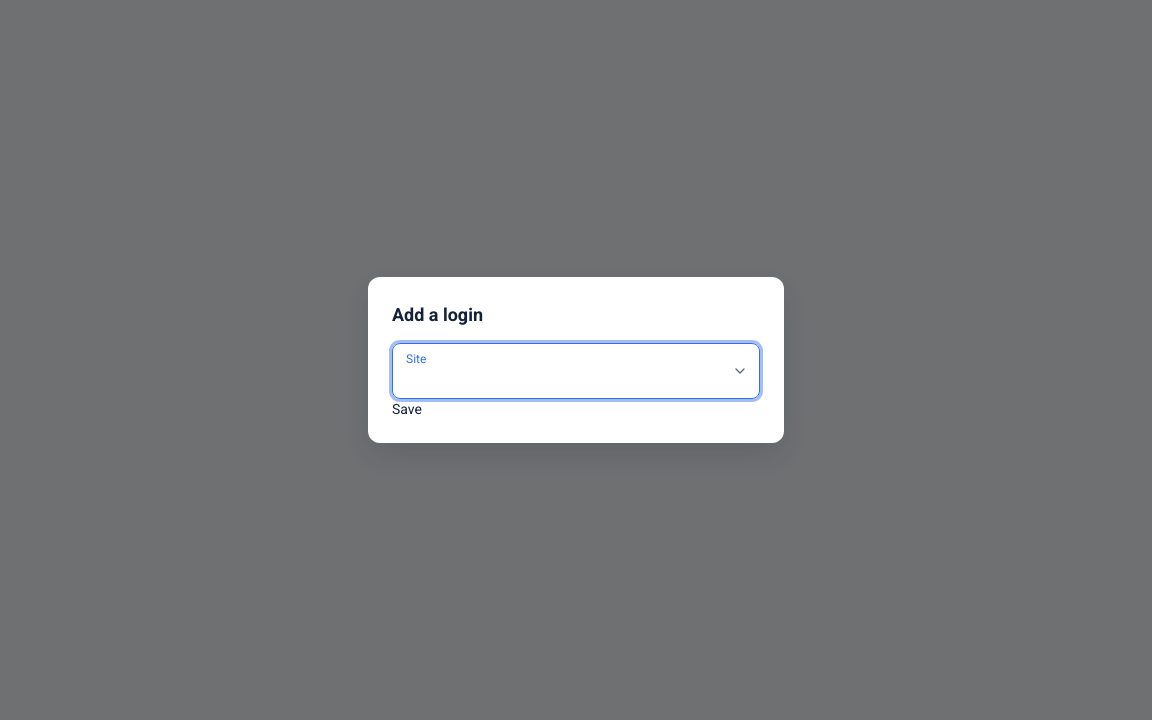
Scenario: ComboboxField › closes its list on Escape and leaves the dialog around it open
In the dropdown labelled "Site": (576, 371) left=392, top=343, right=760, bottom=399, type "tw"
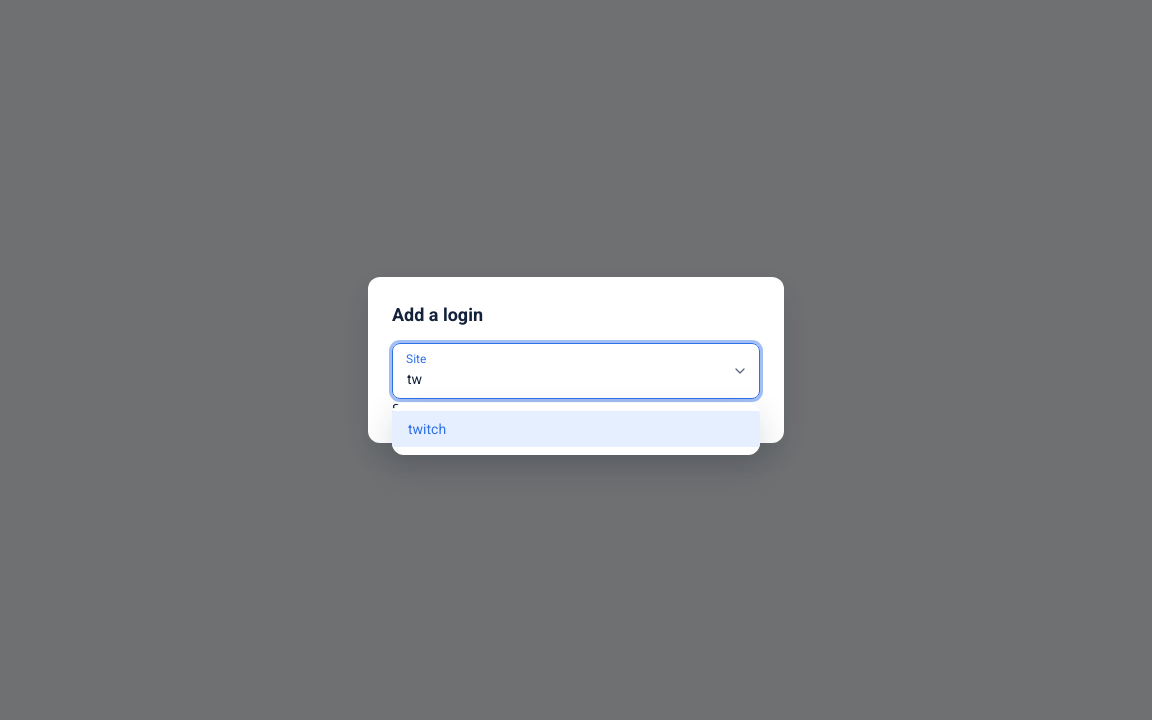
Press Escape
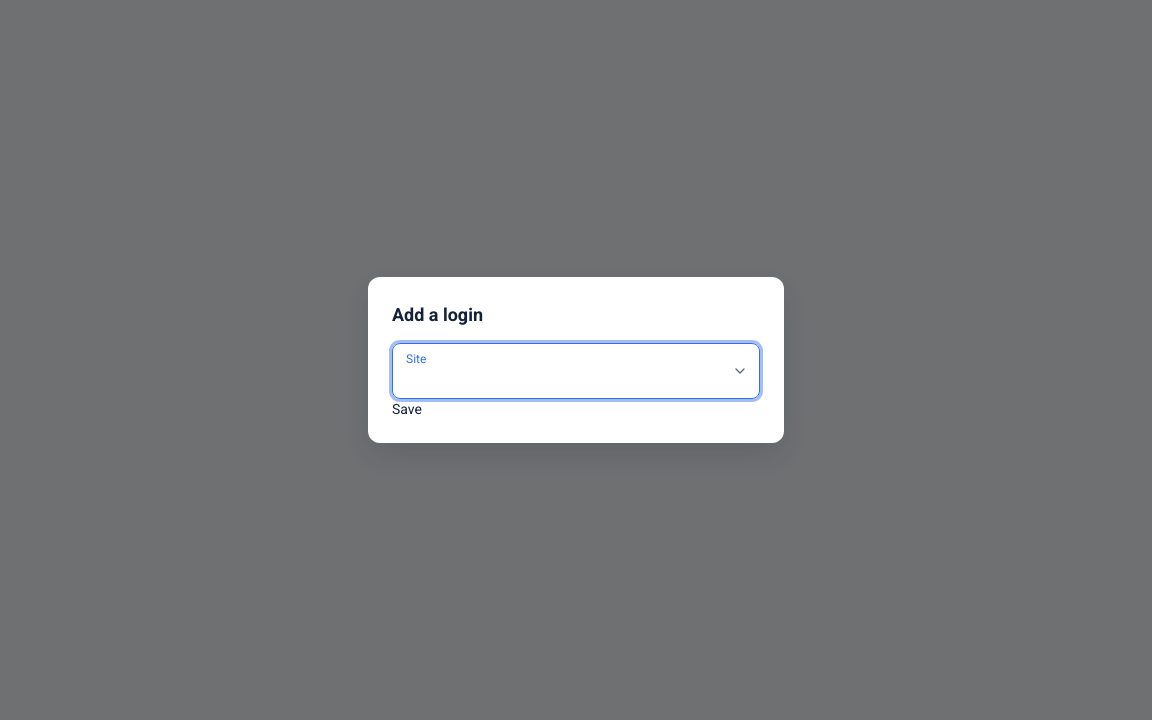
Expected: the dialog "Add a login" is shown, left=368, top=277, right=784, bottom=443
Result: the dropdown labelled "Site" is collapsed at left=392, top=343, right=760, bottom=399
